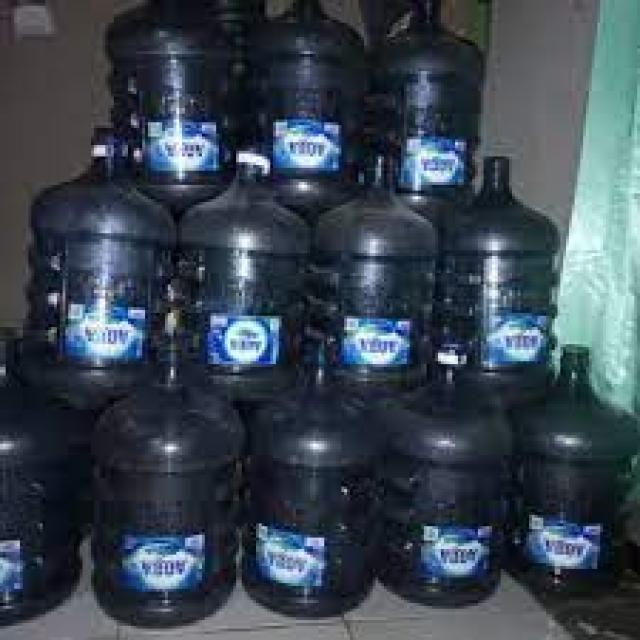Galon: (6, 9, 640, 633)
